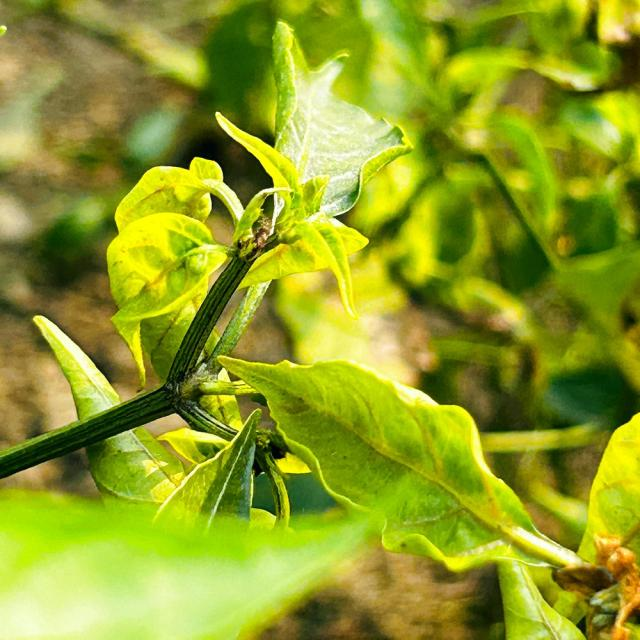Chilli_Leaf_Curl: (2, 18, 632, 637), (214, 352, 596, 638), (105, 110, 372, 394), (30, 313, 186, 505), (267, 19, 413, 219), (550, 410, 639, 638), (150, 406, 262, 540)
